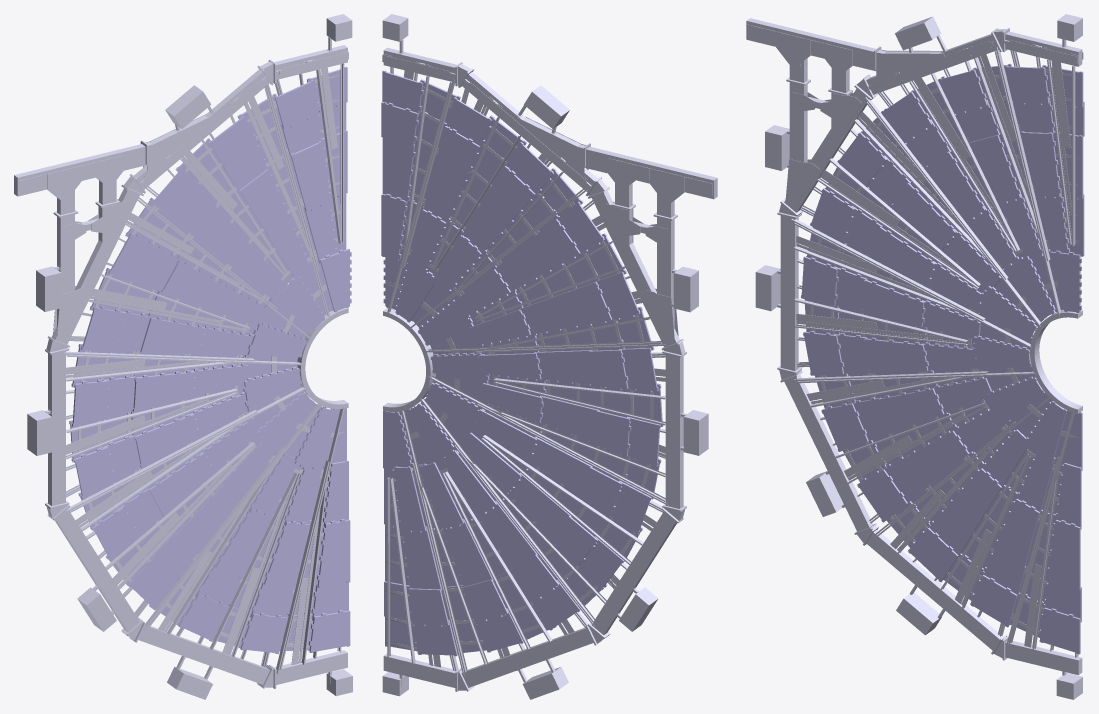
Rendered from TGC-SideC-cut2.glb.
The picture shows the model from 3 angles, left to right: view 1: azimuth 30°, elevation 25°; view 2: azimuth 150°, elevation 25°; view 3: azimuth 330°, elevation 25°; orthographic projection.
Visible parts, largest first — view 1: null; view 2: null; view 3: null.
Boxes of the visible parts, <box> form: null: <box>14,14,352,699</box>; null: <box>381,14,717,699</box>; null: <box>746,14,1084,699</box>.
Bounding box in the file's own units: 12.98 × 24.98 × 0.6611.
